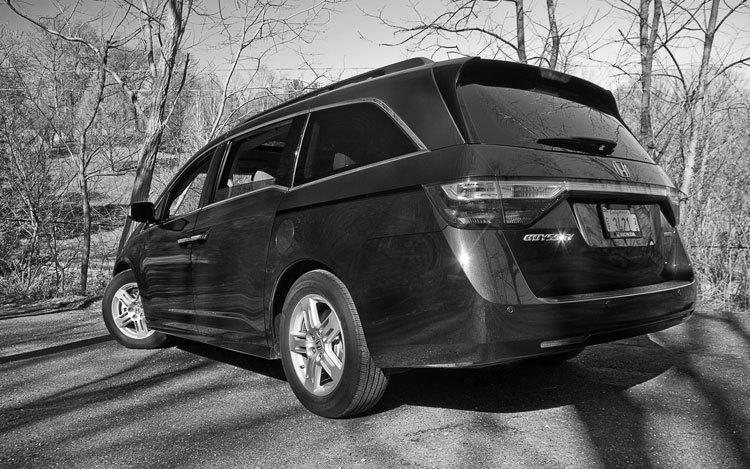car: (102, 56, 702, 424)
